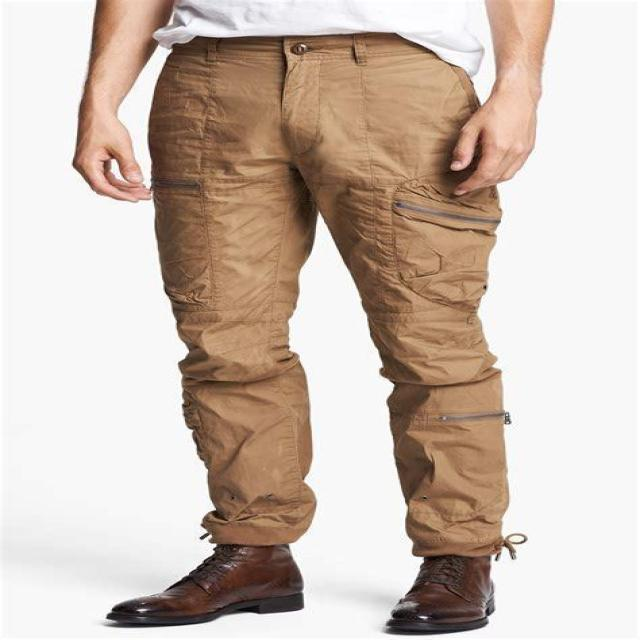pants: (148, 34, 510, 556)
